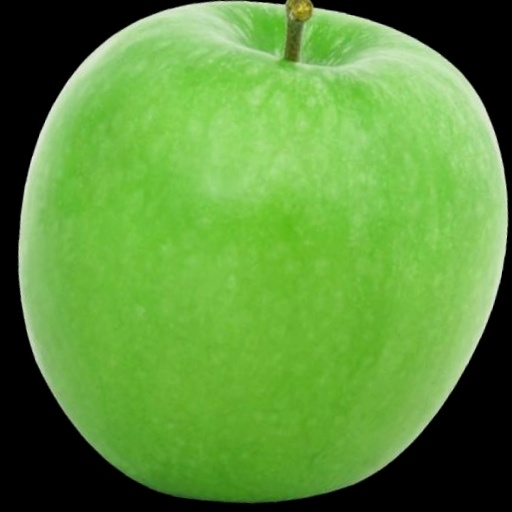fruit: (19, 2, 506, 502)
